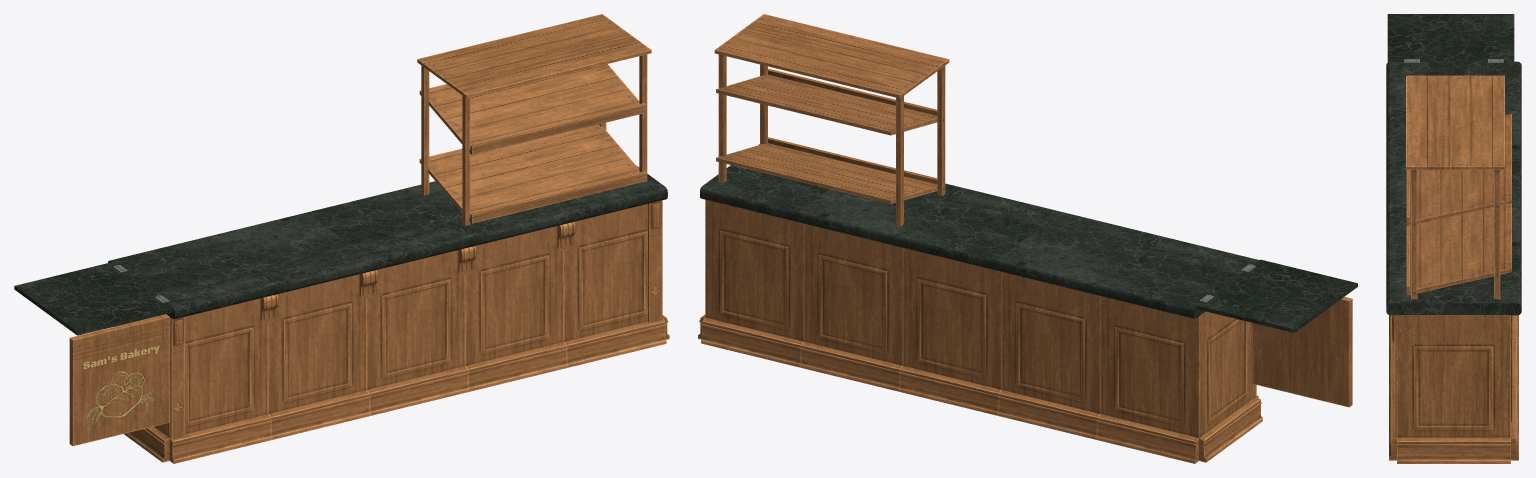
File: Bakery_Cash_Desk.fbx
3 renders of one model, left to right at view 1: azimuth 30°, elevation 25°; view 2: azimuth 150°, elevation 25°; view 3: azimuth 270°, elevation 25°, orthographic.
Parts seen in each view (by area): view 1: Bakery_Cash_Desk_LOD0; view 2: Bakery_Cash_Desk_LOD0; view 3: Bakery_Cash_Desk_LOD0.
Part boxes in pixels (x1,y1,x2,y2): Bakery_Cash_Desk_LOD0: (14,14,669,463); Bakery_Cash_Desk_LOD0: (698,14,1357,463); Bakery_Cash_Desk_LOD0: (1386,14,1521,463).
Size of what is drawn, in the model's own units: 404 by 187 by 78.9.
